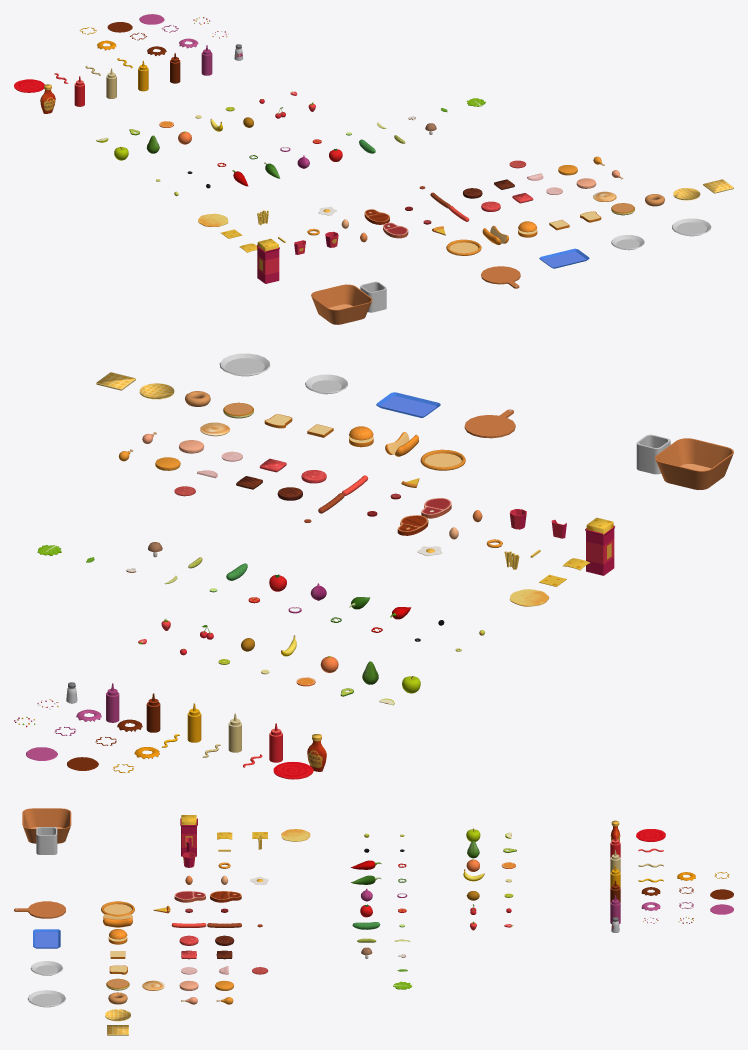
The model's file is Foods.fbx.
The picture shows the model from 3 angles, top to bottom: view 1: azimuth 30°, elevation 25°; view 2: azimuth 150°, elevation 25°; view 3: azimuth 270°, elevation 25°; orthographic projection. The views are drawn at different scales.
Parts seen in each view (by area): view 1: container, cheese_pack, plate_pizza, plate_burger, vegetables_box, plate_2; view 2: container, cheese_pack, plate_pizza, plate_burger, vegetables_box, plate_2, pizza_dough_, plate_1; view 3: container, plate_pizza, vegetables_box, plate_burger, plate_2, cheese_pack, pizza_dough_, plate_1.
Boxes of the visible parts, x1,y1,x2,y2 form: container: (311, 284, 372, 324); cheese_pack: (257, 245, 279, 283); plate_pizza: (481, 266, 520, 288); plate_burger: (539, 248, 589, 268); vegetables_box: (360, 281, 386, 312); plate_2: (672, 218, 711, 236); container: (655, 438, 733, 489); cheese_pack: (585, 525, 614, 575); plate_pizza: (464, 409, 515, 438); plate_burger: (376, 392, 440, 417); vegetables_box: (636, 434, 670, 474); plate_2: (219, 353, 270, 376); pizza_dough_: (420, 449, 465, 470); plate_1: (305, 374, 348, 394); container: (22, 808, 71, 843); plate_pizza: (14, 901, 65, 918); vegetables_box: (36, 827, 57, 854); plate_burger: (33, 929, 60, 948); plate_2: (27, 990, 65, 1007); cheese_pack: (180, 818, 197, 856); pizza_dough_: (101, 901, 134, 916); plate_1: (30, 961, 62, 975).
Size of the model in its own units: 14 by 1.15 by 20.26.
